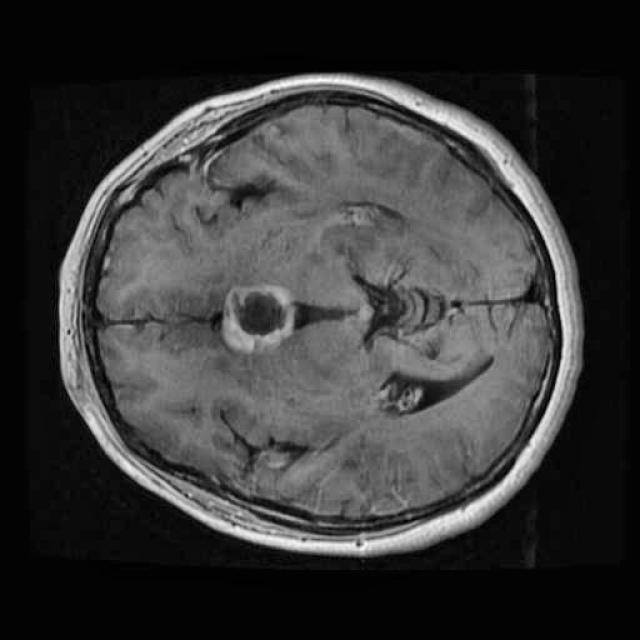Tumor: (213, 274, 308, 360)
